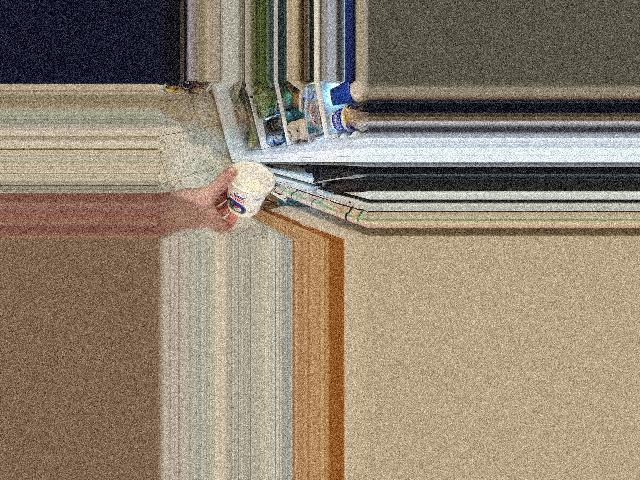cotage: (227, 167, 277, 211)
